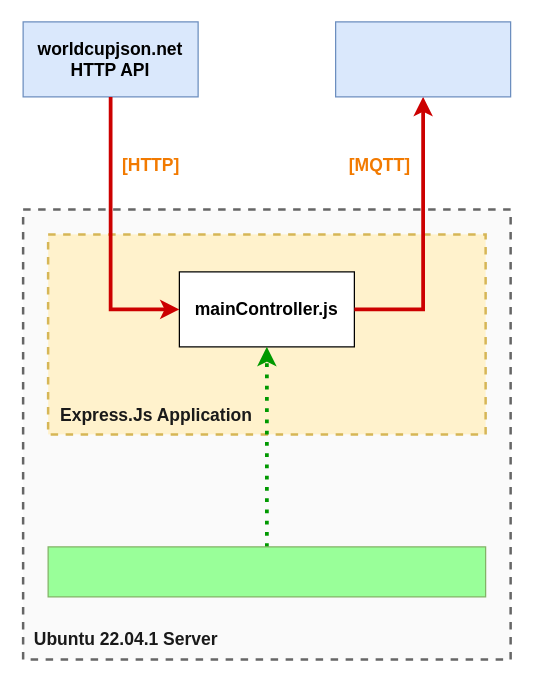
The diagram is 533 pixels wide and 693 high, and some of its shapes have lost their labels. Here are the shapes that lost their labels. From the top down, the centre of each, then its label:
the point at 422,59: CASA MQTT Broker
the point at 266,571: Cron job
